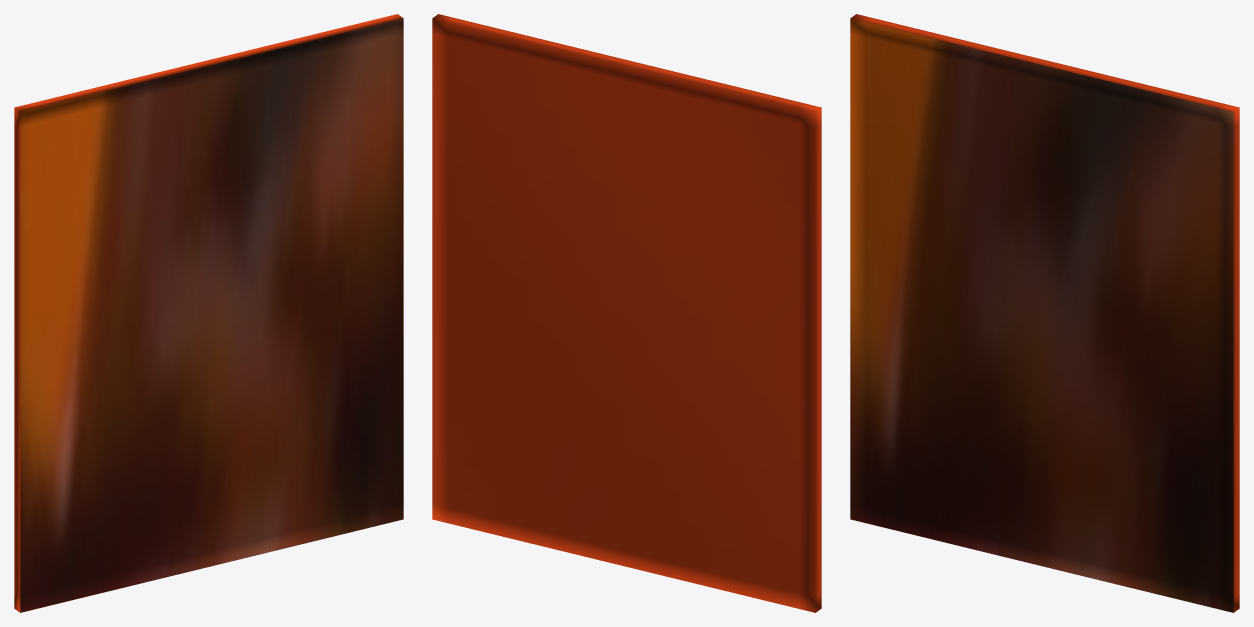
3 renders of one model, left to right at view 1: azimuth 30°, elevation 25°; view 2: azimuth 150°, elevation 25°; view 3: azimuth 330°, elevation 25°, orthographic.
Visible parts, largest first — view 1: tea_sachet__body; view 2: tea_sachet__body; view 3: tea_sachet__body.
Part boxes in pixels (bbox=[...]): tea_sachet__body: bbox=[14, 14, 403, 612]; tea_sachet__body: bbox=[432, 14, 821, 612]; tea_sachet__body: bbox=[850, 14, 1239, 612].
Size of the model in its own units: 0.06 by 0.075 by 0.004.
2 materials, 1 textured.
